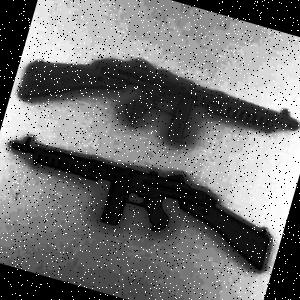SMG: (0, 118, 287, 284), (14, 20, 300, 182)
